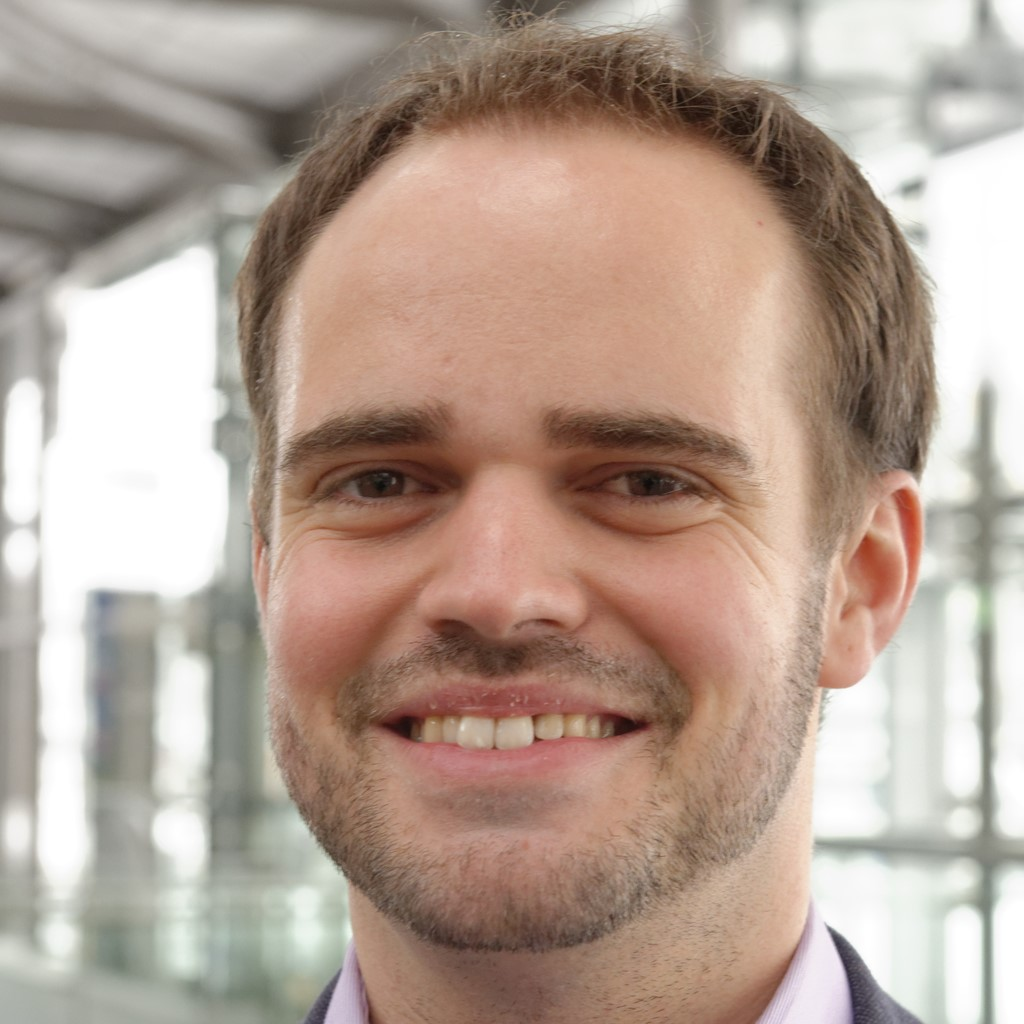sin_mascara: (259, 128, 901, 952)
